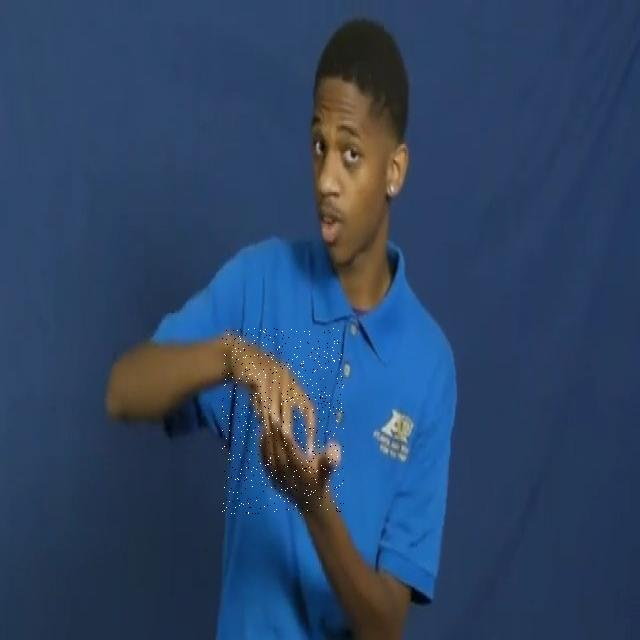biscuit: (222, 328, 344, 514)
